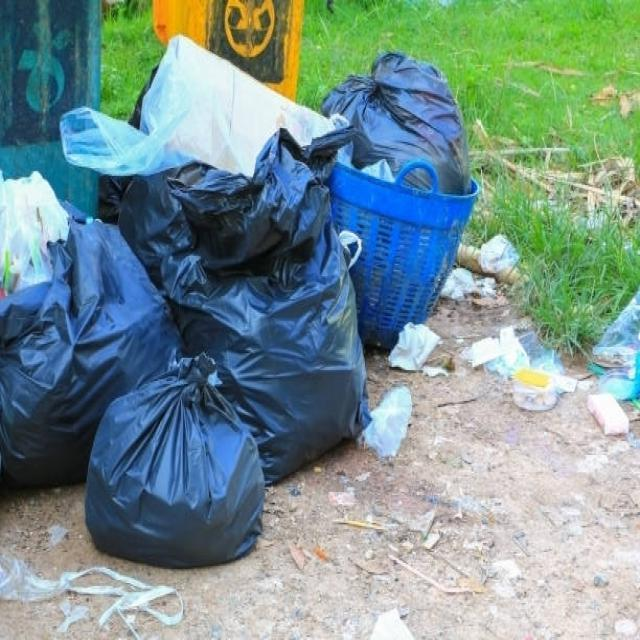Trashbag: (89, 378, 262, 573), (2, 211, 162, 414), (232, 249, 370, 481), (172, 147, 324, 266), (320, 59, 470, 179)
